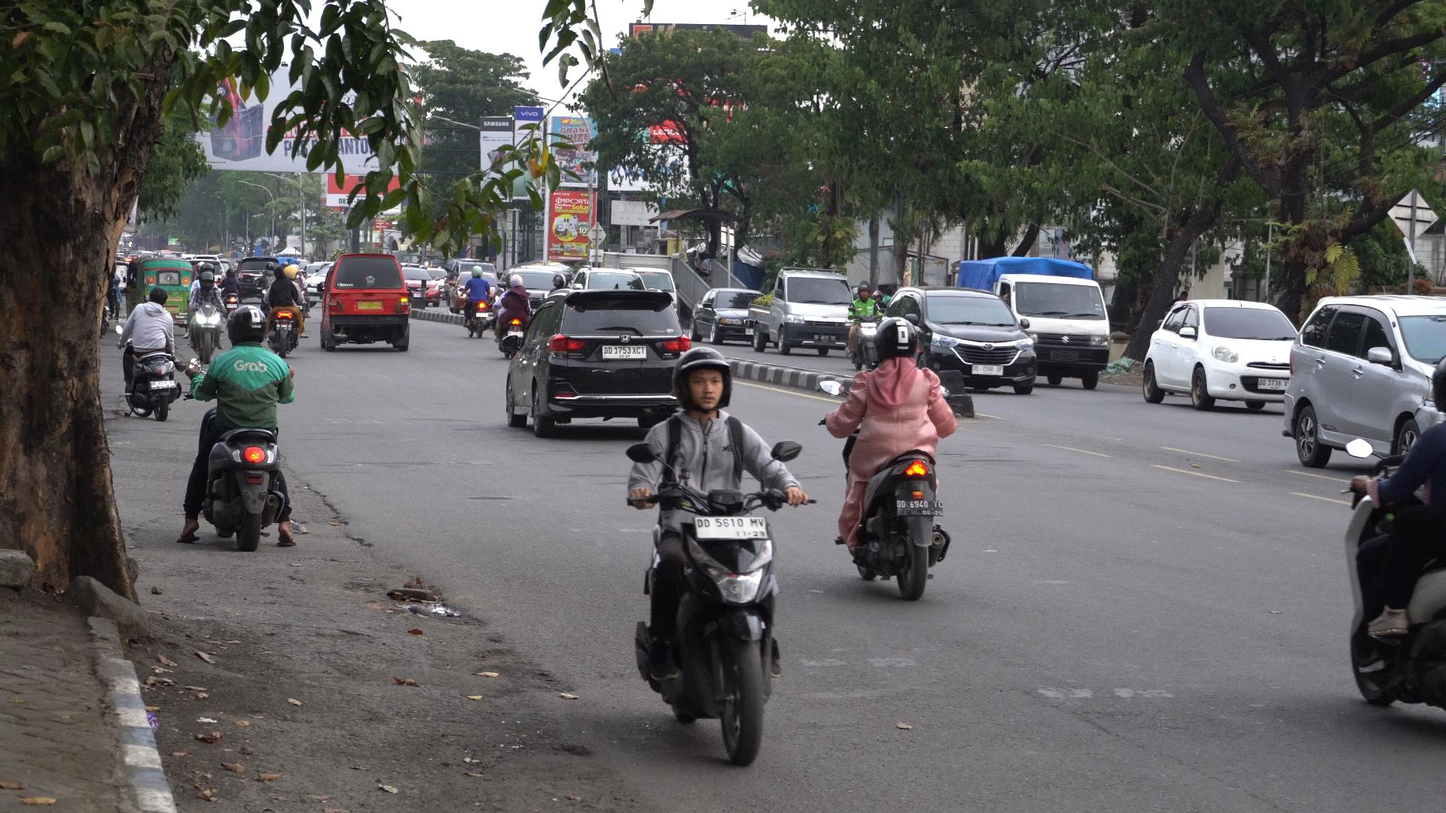number-plate: (697, 518, 769, 540)
